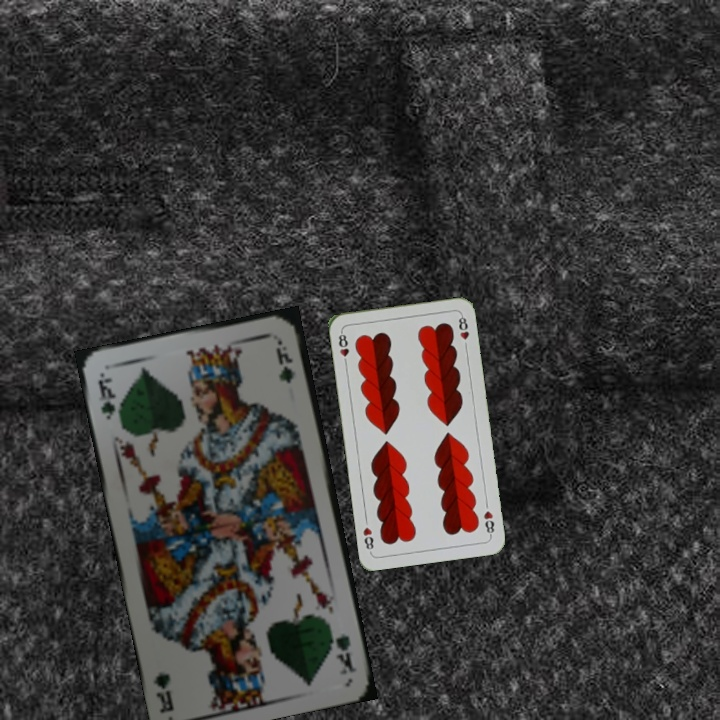GK: (331, 630, 360, 678), (94, 371, 118, 423)
H8: (334, 327, 351, 368), (479, 507, 497, 539)
